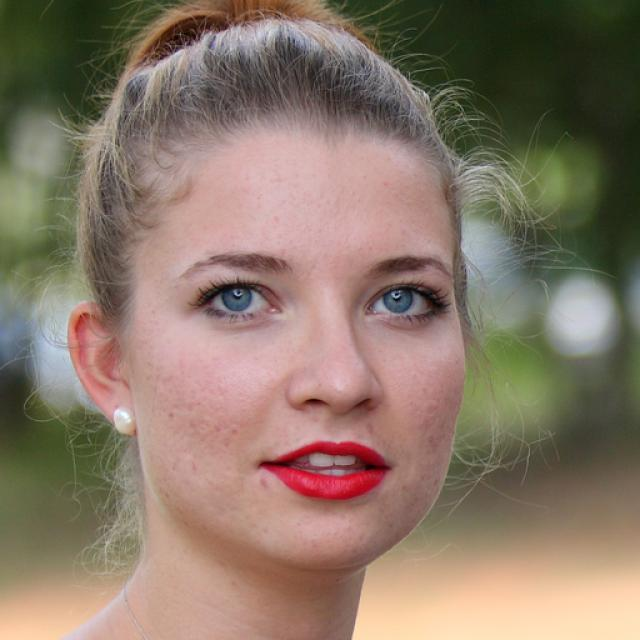neutral: (130, 117, 469, 568)
